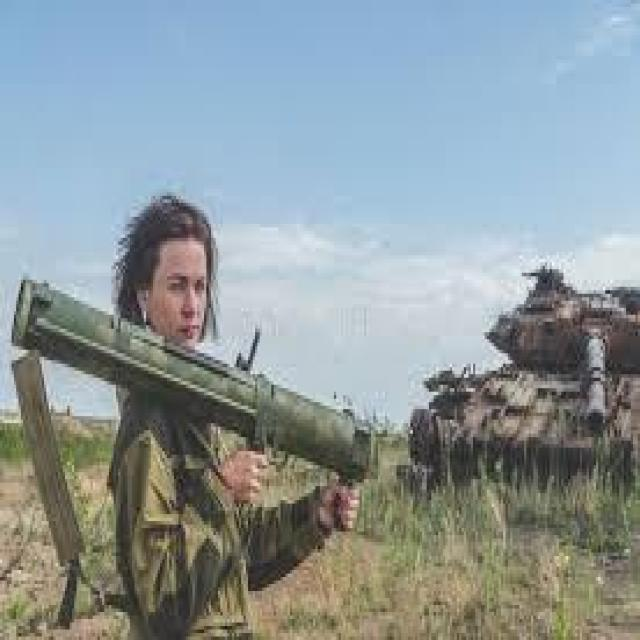bazooka: (8, 275, 390, 517)
